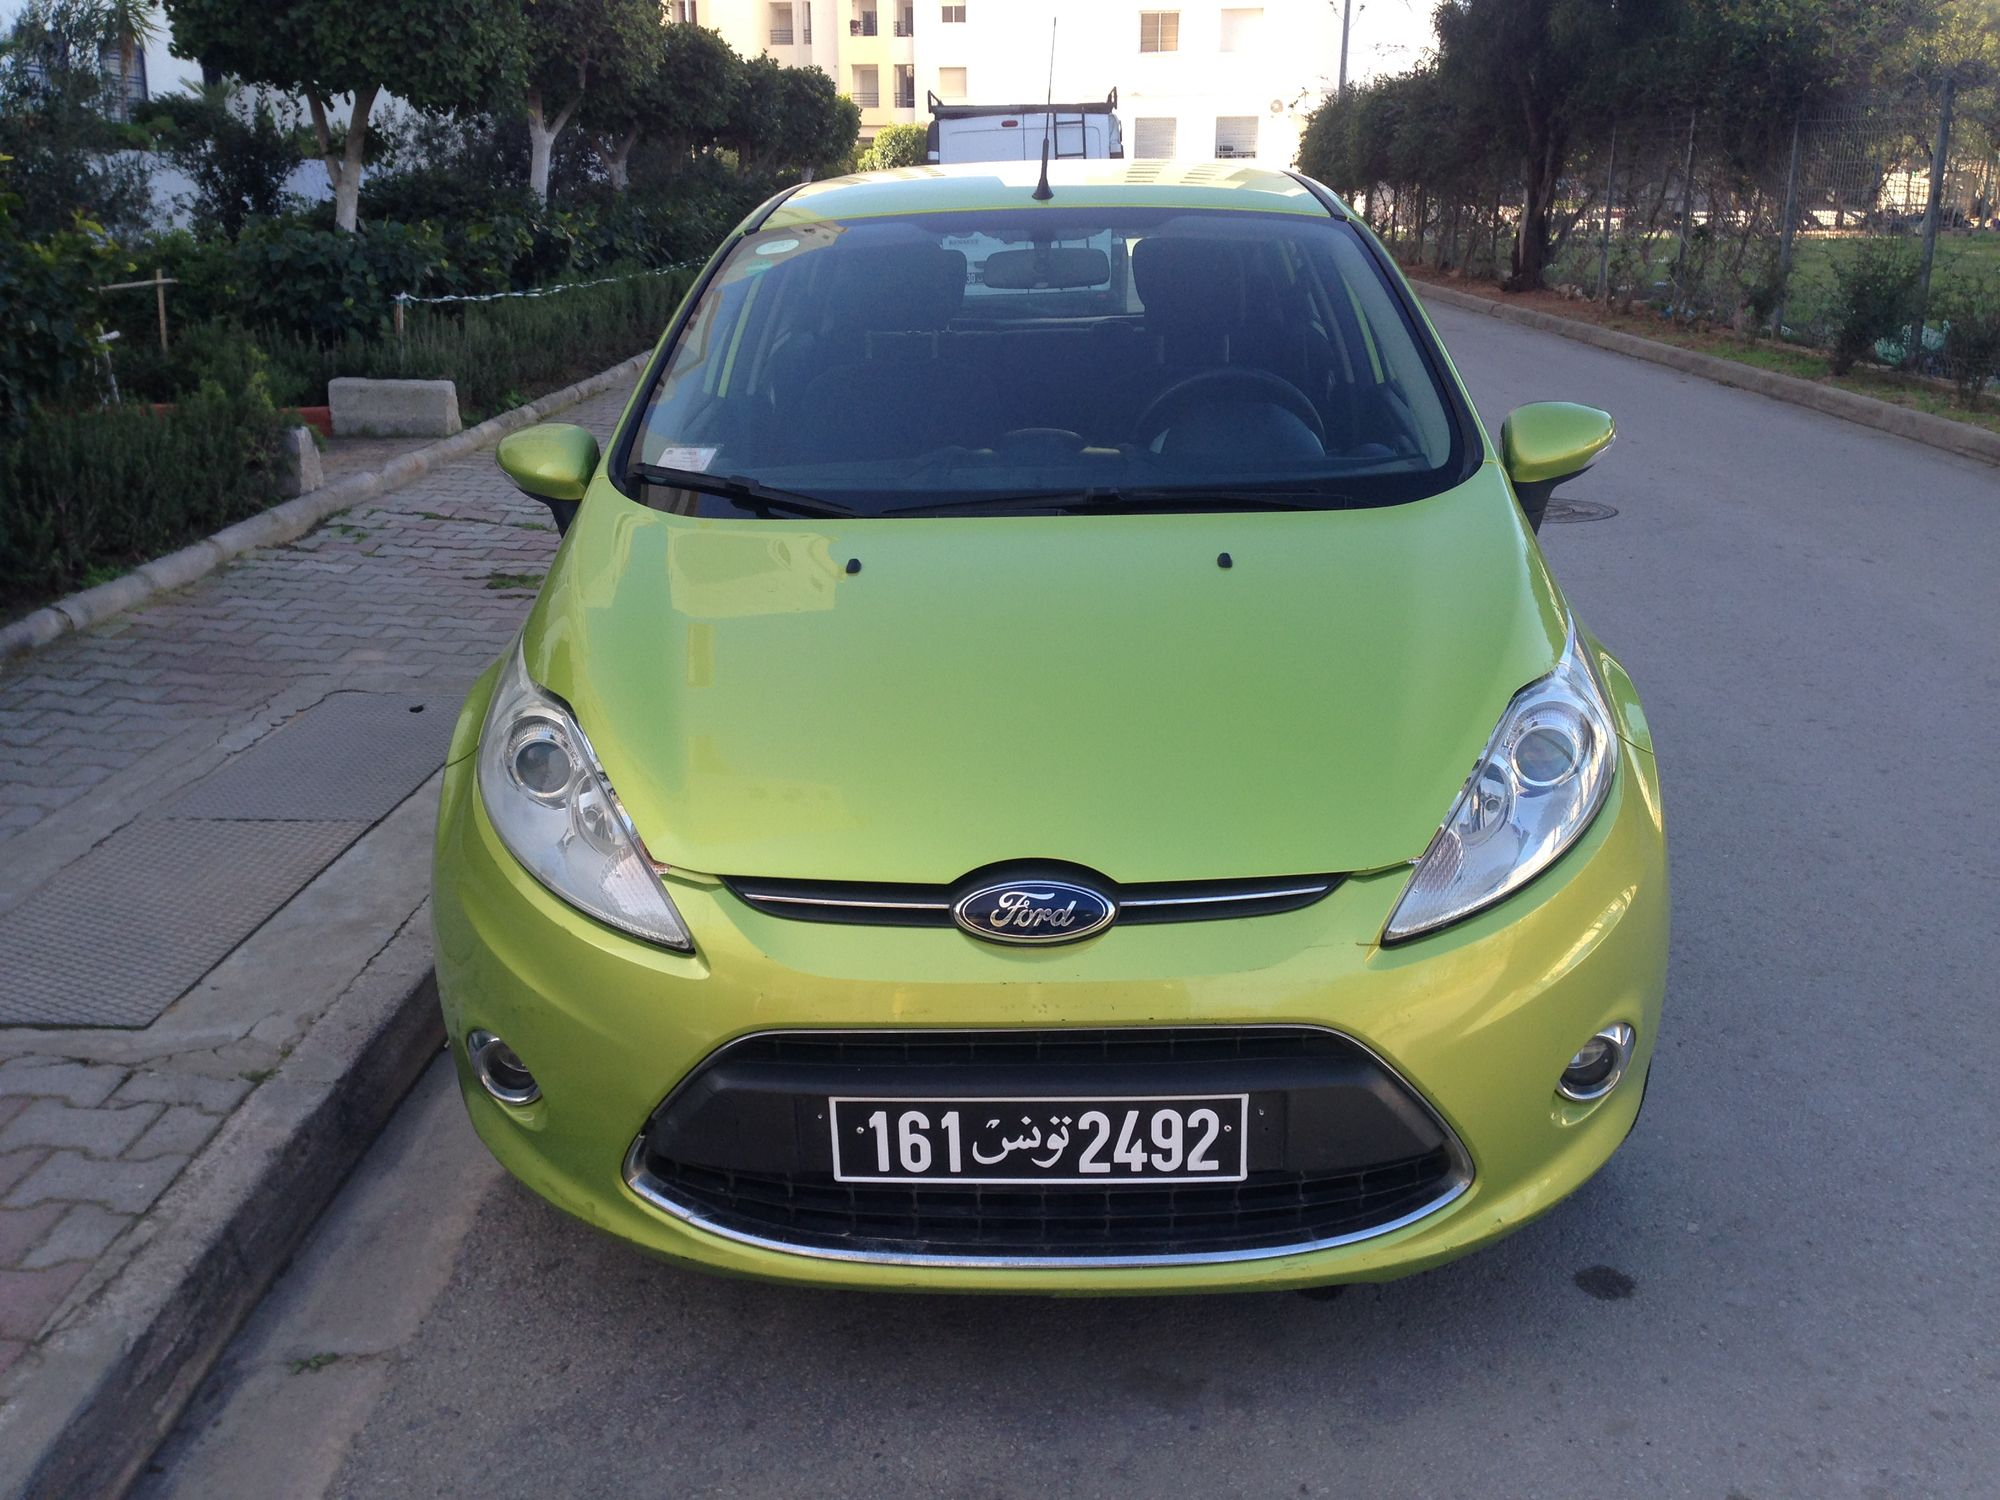LP: (827, 1093, 1250, 1187)
